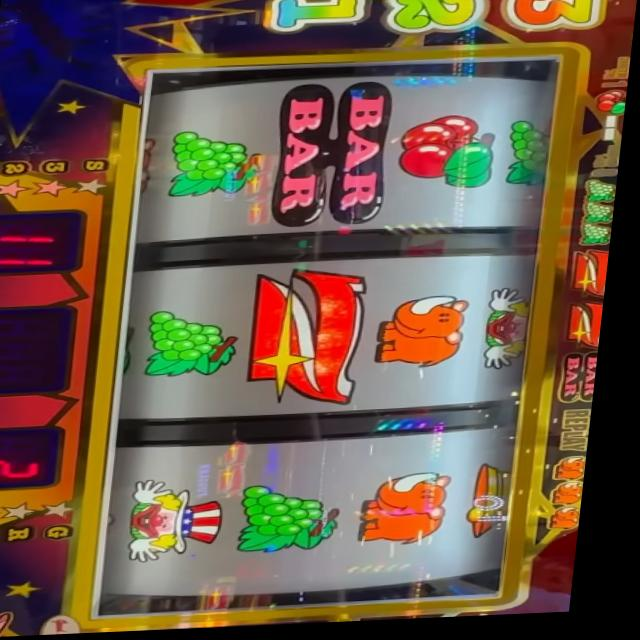bar: (273, 83, 398, 232), (562, 356, 607, 411)
bell: (473, 467, 526, 545)
cherry: (397, 117, 504, 196), (594, 95, 630, 122)
clown: (136, 477, 241, 566), (485, 291, 540, 375)
display: (102, 55, 567, 622)
elephant: (377, 298, 480, 375), (364, 475, 467, 552), (556, 512, 593, 537), (564, 461, 598, 487), (560, 487, 595, 511)
grape: (244, 483, 358, 558), (167, 128, 271, 201), (145, 310, 250, 381), (507, 122, 555, 193), (585, 184, 622, 209), (583, 229, 618, 251), (586, 208, 620, 229)
z: (247, 264, 382, 415), (570, 254, 616, 306), (566, 307, 611, 357)
